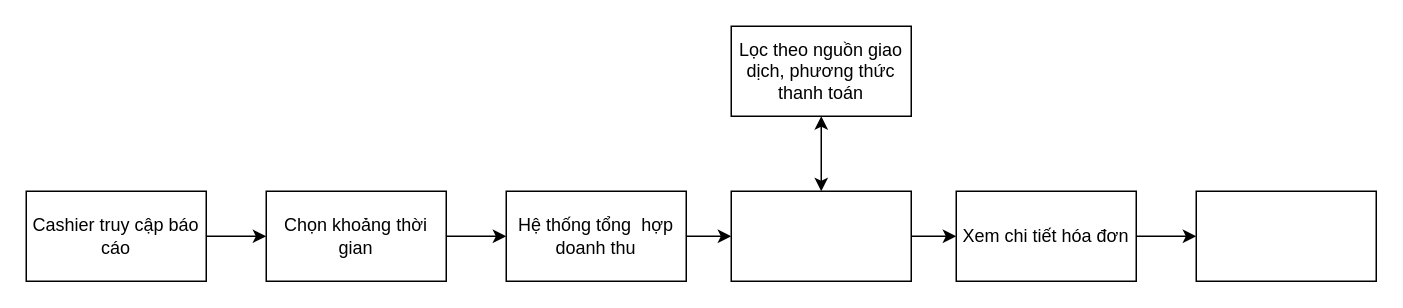
This 1403x308 diagram has some shape labels left out. The centre of each missing label's shape, as x and y in pixels:
Hiển thị báo cáo ( Tổng doanh thu Số giao dịch Danh sách giao dịch): pixel 820 235
Kết thúc: pixel 1285 235
